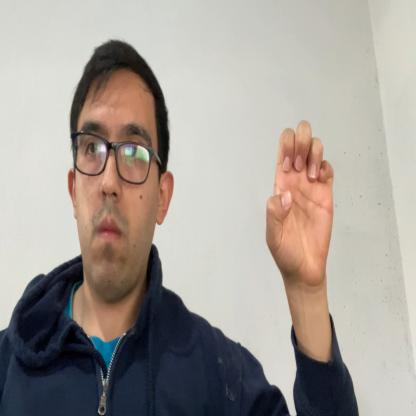E: (265, 119, 335, 286)
